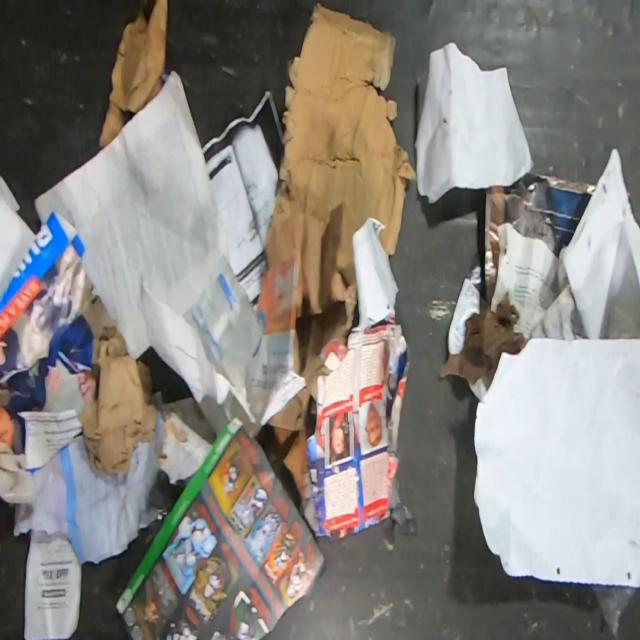cardboard: (266, 2, 415, 442), (116, 413, 326, 639), (78, 274, 156, 474), (98, 0, 169, 150), (284, 433, 310, 509)
